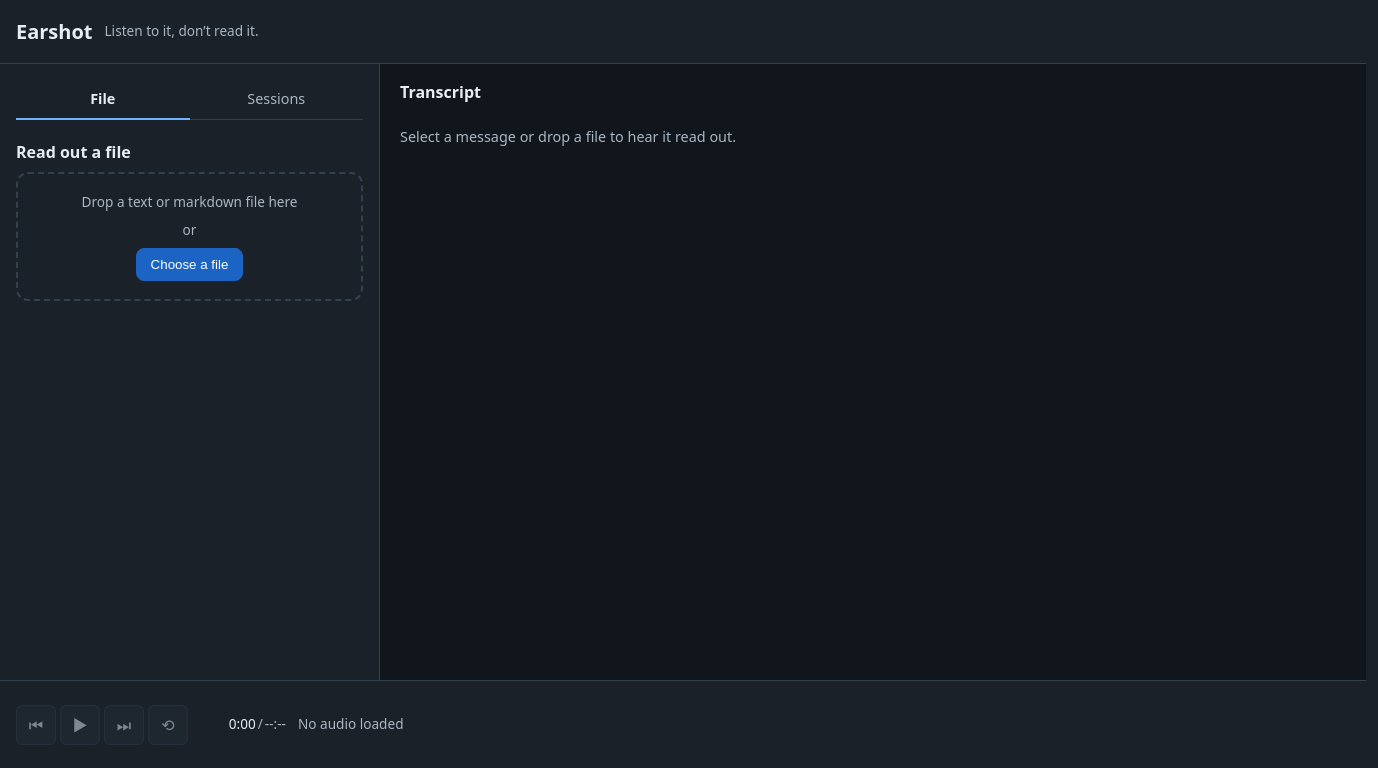
Scenario: Session pane — listbox + listen path › Spoken/Source toggle defaults to Spoken and flips content
The image size is (1378, 768).
Click the tab "Sessions" at (276, 100), box x1=190 y1=80 x2=363 y2=120
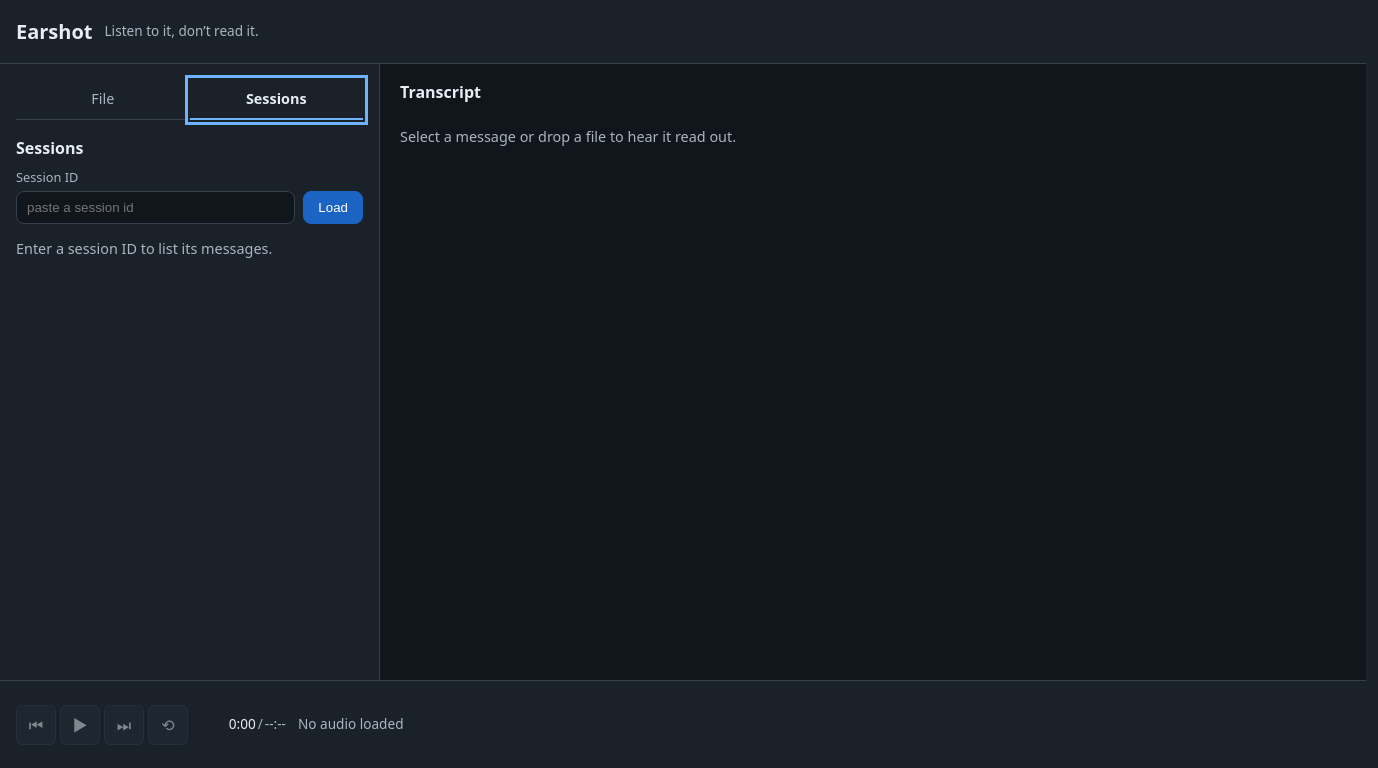
Type "demo-session-001" into the field labelled "Session ID" at (156, 207), box x1=16 y1=191 x2=295 y2=224
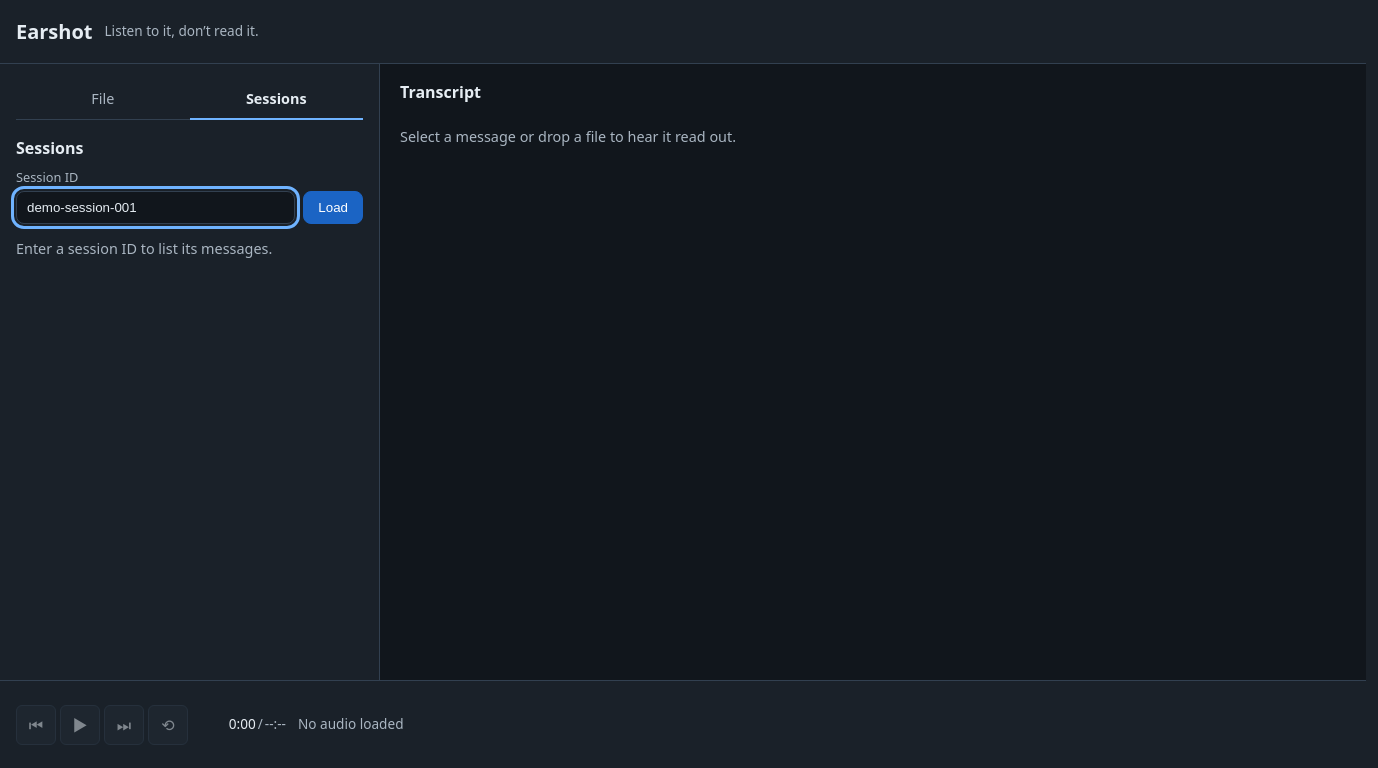
Click the button "Load" at (333, 207), box x1=303 y1=191 x2=363 y2=224
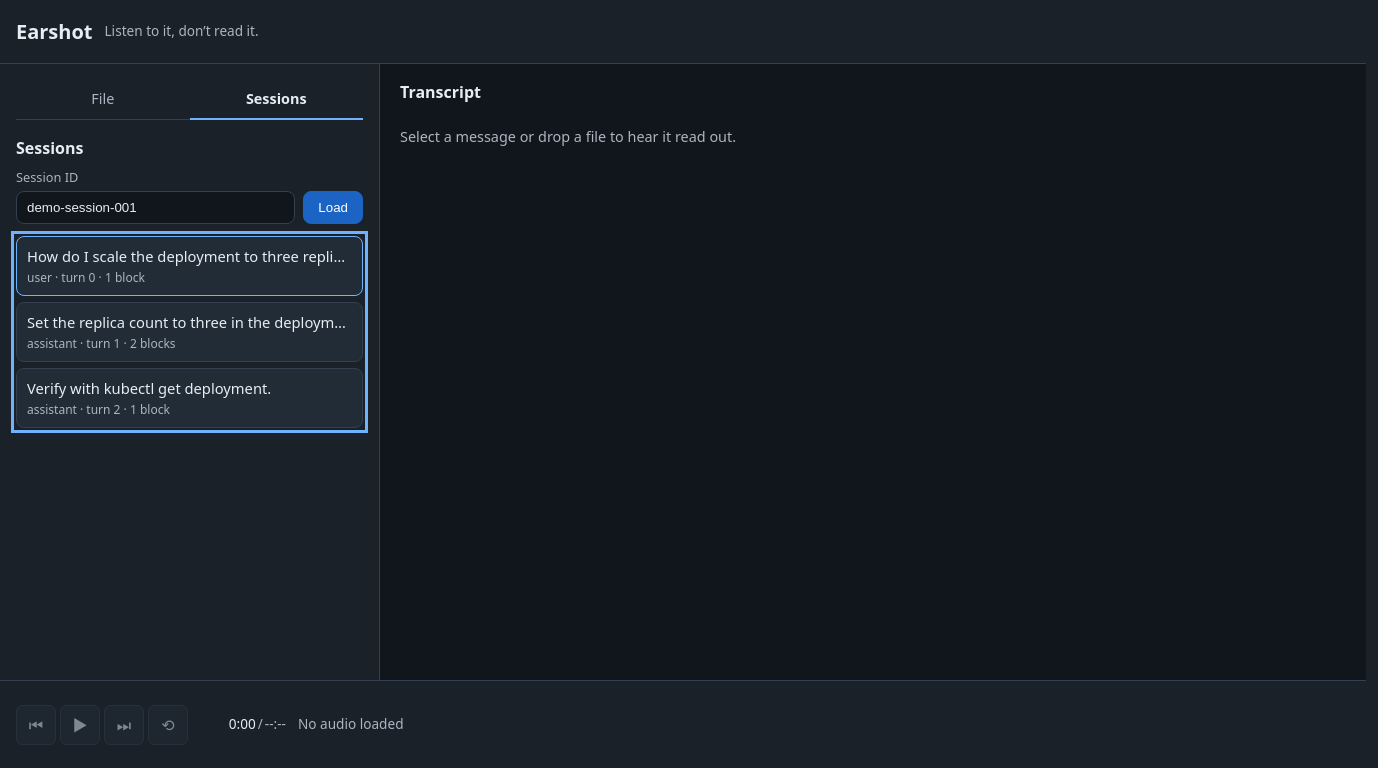
Click the 2nd option at (190, 332), box x1=16 y1=302 x2=363 y2=362
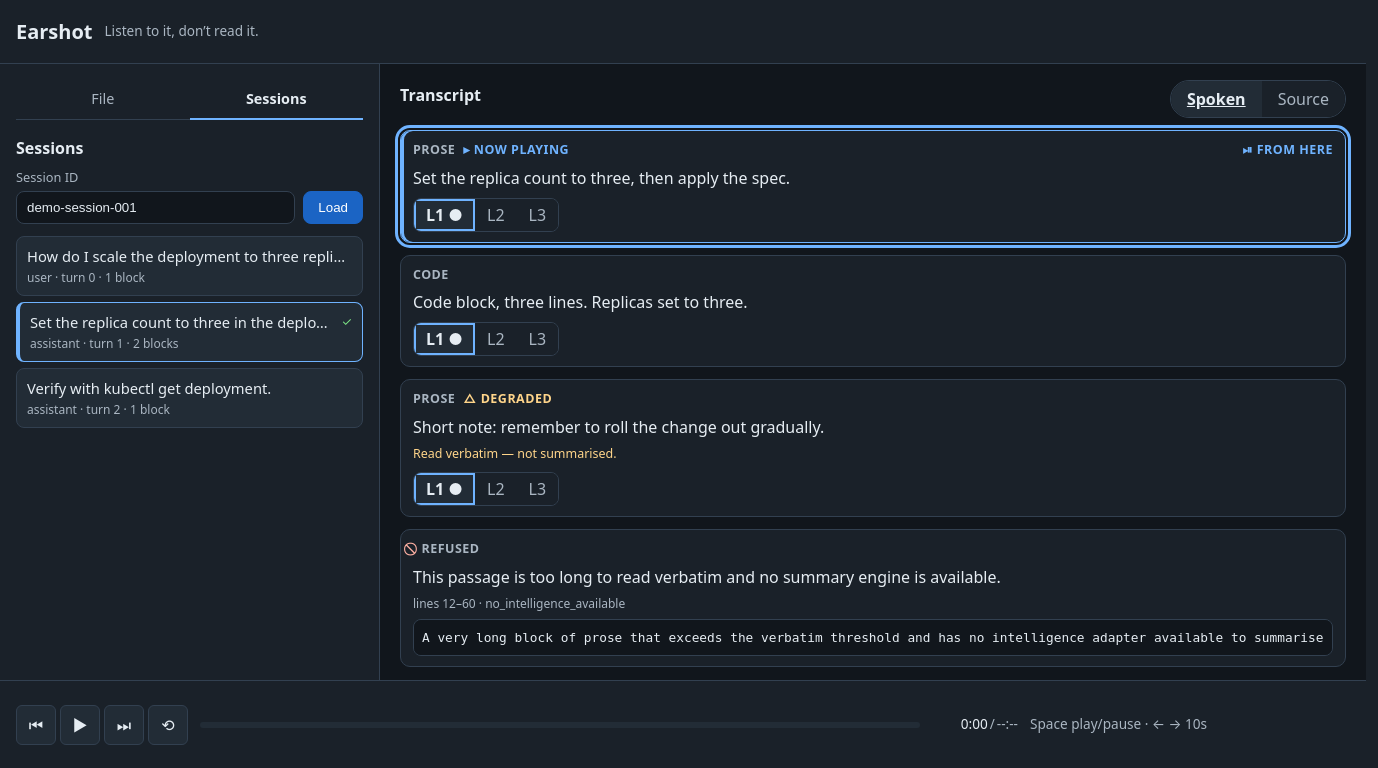
Check: the element named "Transcript view" is shown, box x1=1170 y1=80 x2=1346 y2=118
Check: the text "Set the replica count to three, then apply the spec." is shown, box x1=413 y1=167 x2=790 y2=189
Click the radio button labelled "Source" at (1303, 99), box x1=1262 y1=81 x2=1345 y2=117
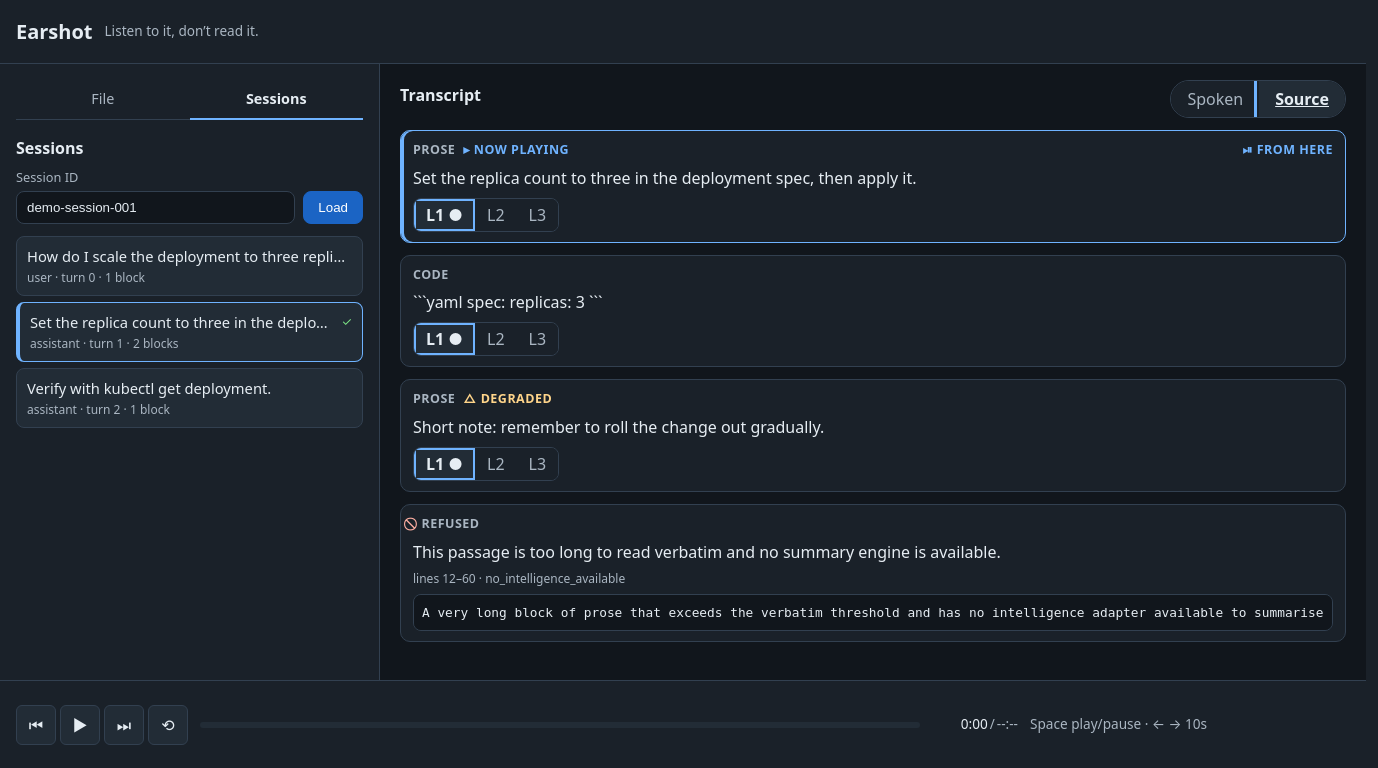
Check: the text "in the deployment spec" below "▸ now playing" is shown, box x1=413 y1=167 x2=916 y2=189
